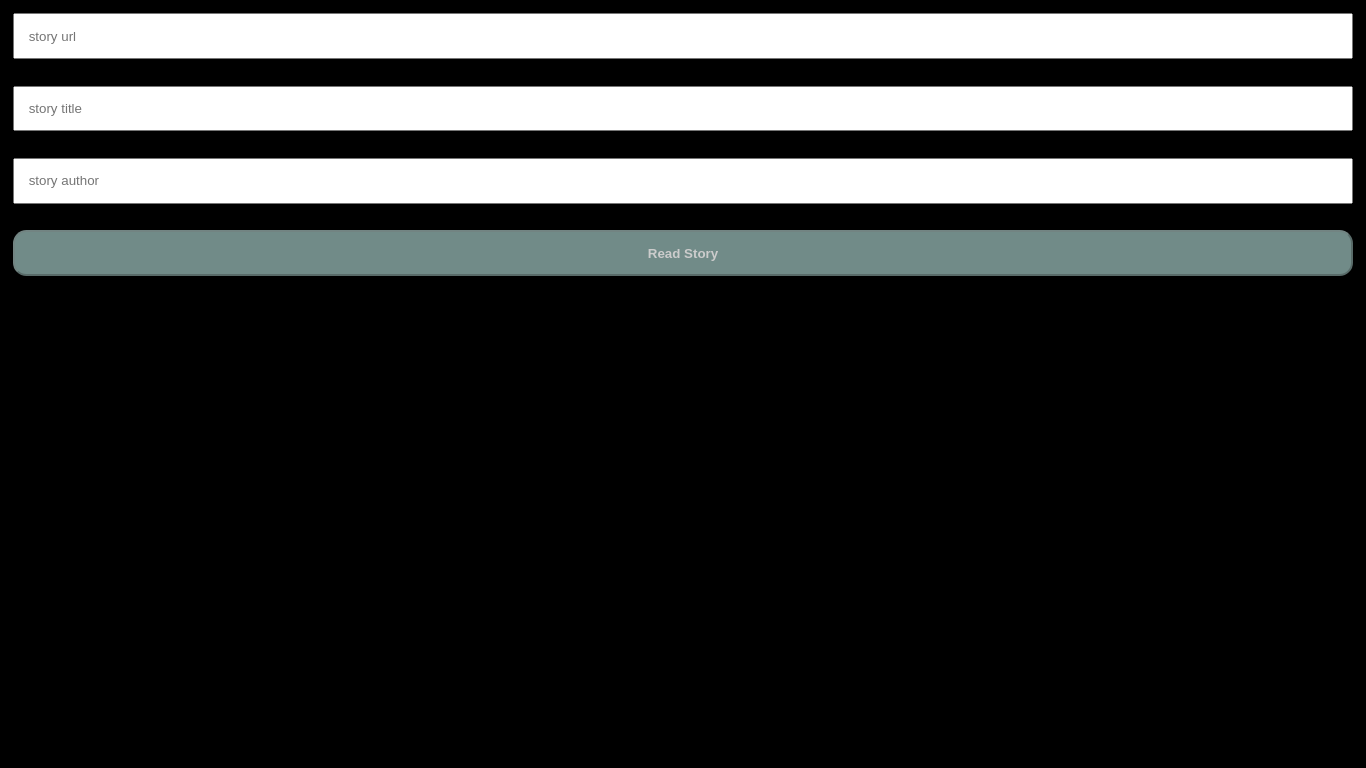
Test case: StoryLoader › loads a story › from the form
Type "A Greeting" into the field with placeholder "story title". click: (683, 108)
box: 13,86 -> 1353,131
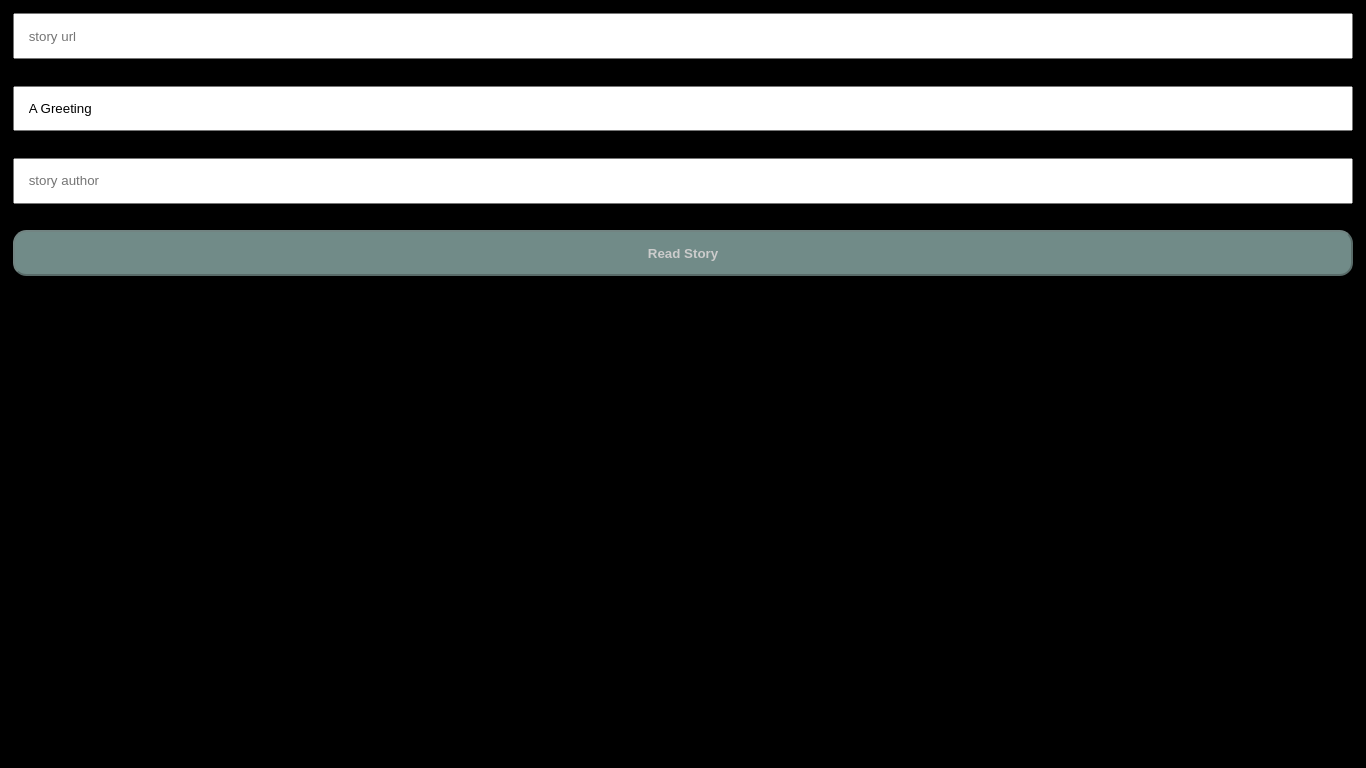
Type "C.S. Tradition" into the field with placeholder "story author". click: (683, 181)
box: 13,158 -> 1353,204
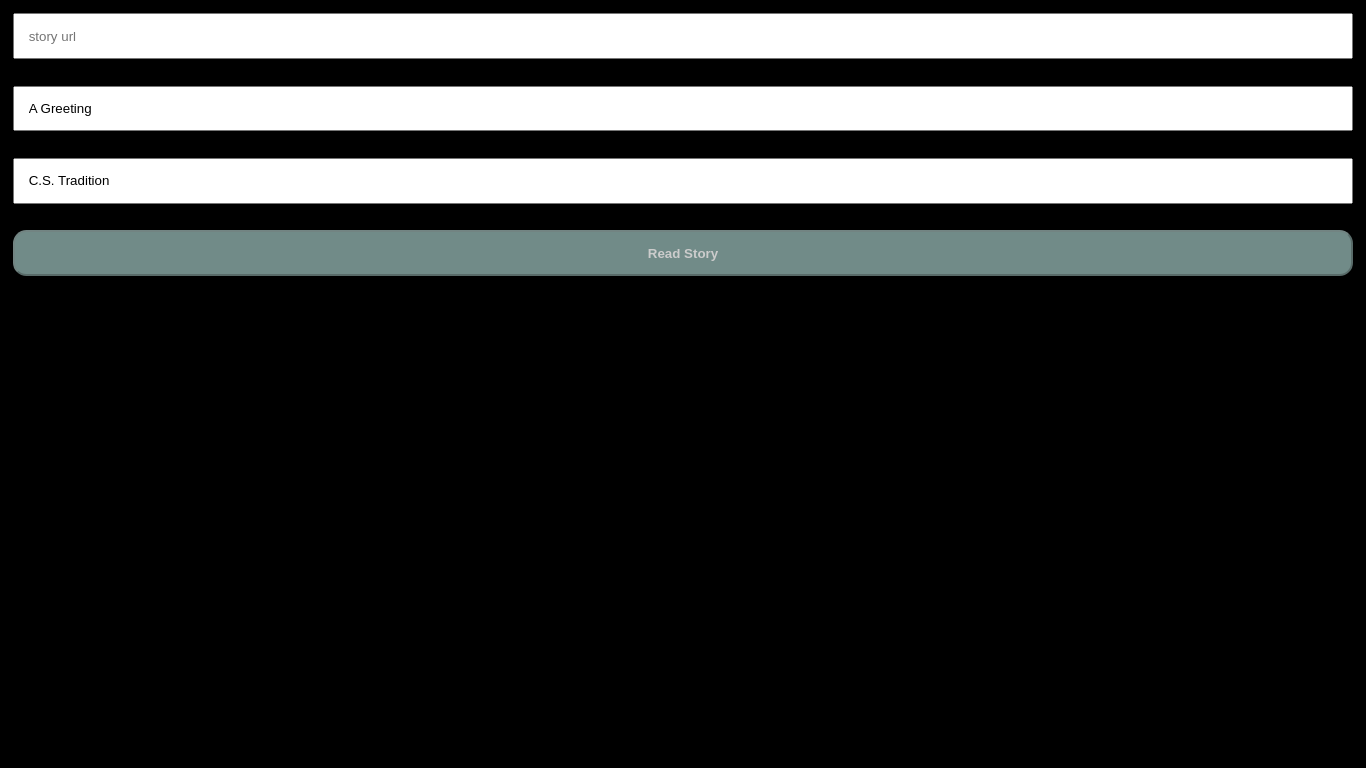
Type "http://www.example.com/story/42" into the field with placeholder "story url". click: (683, 36)
box: 13,13 -> 1353,59
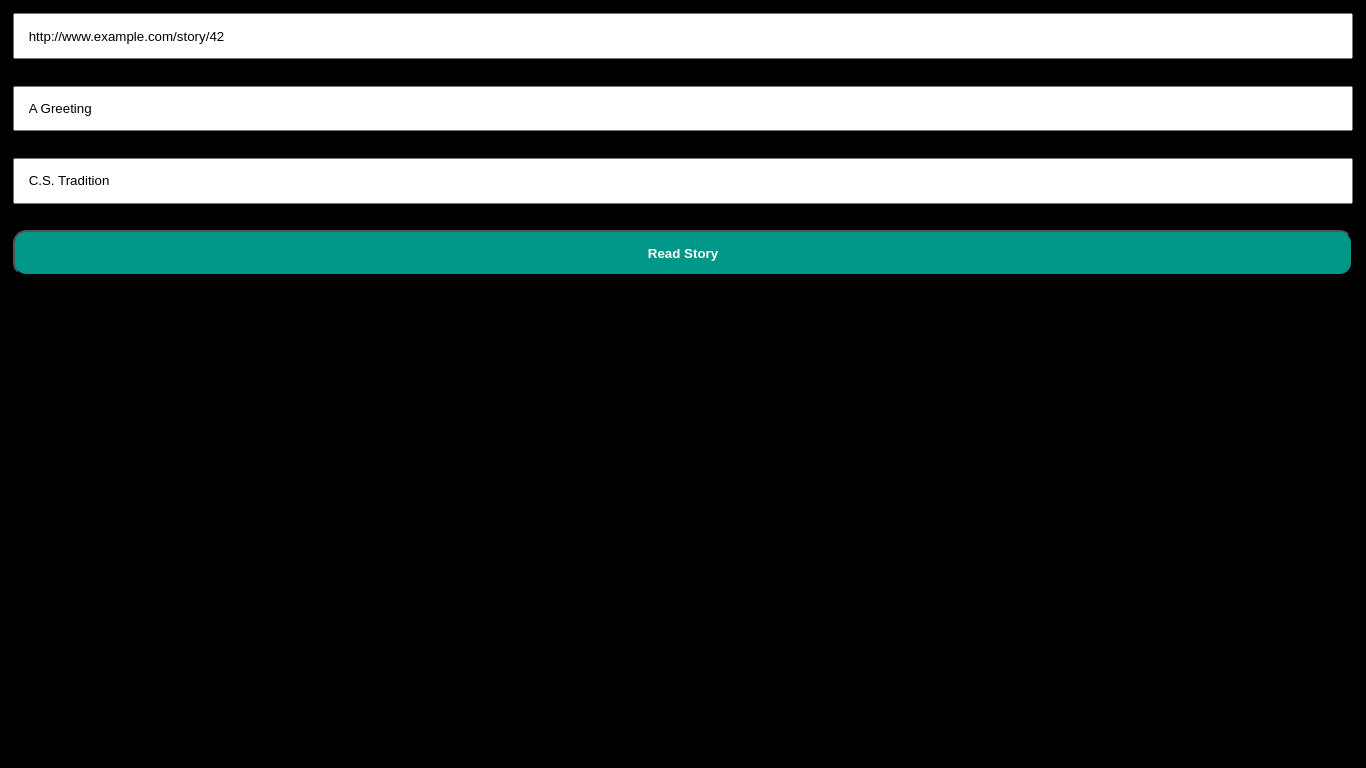
Click the button with class "StoryLoader-read-button". click: (683, 253)
box: 13,230 -> 1353,276
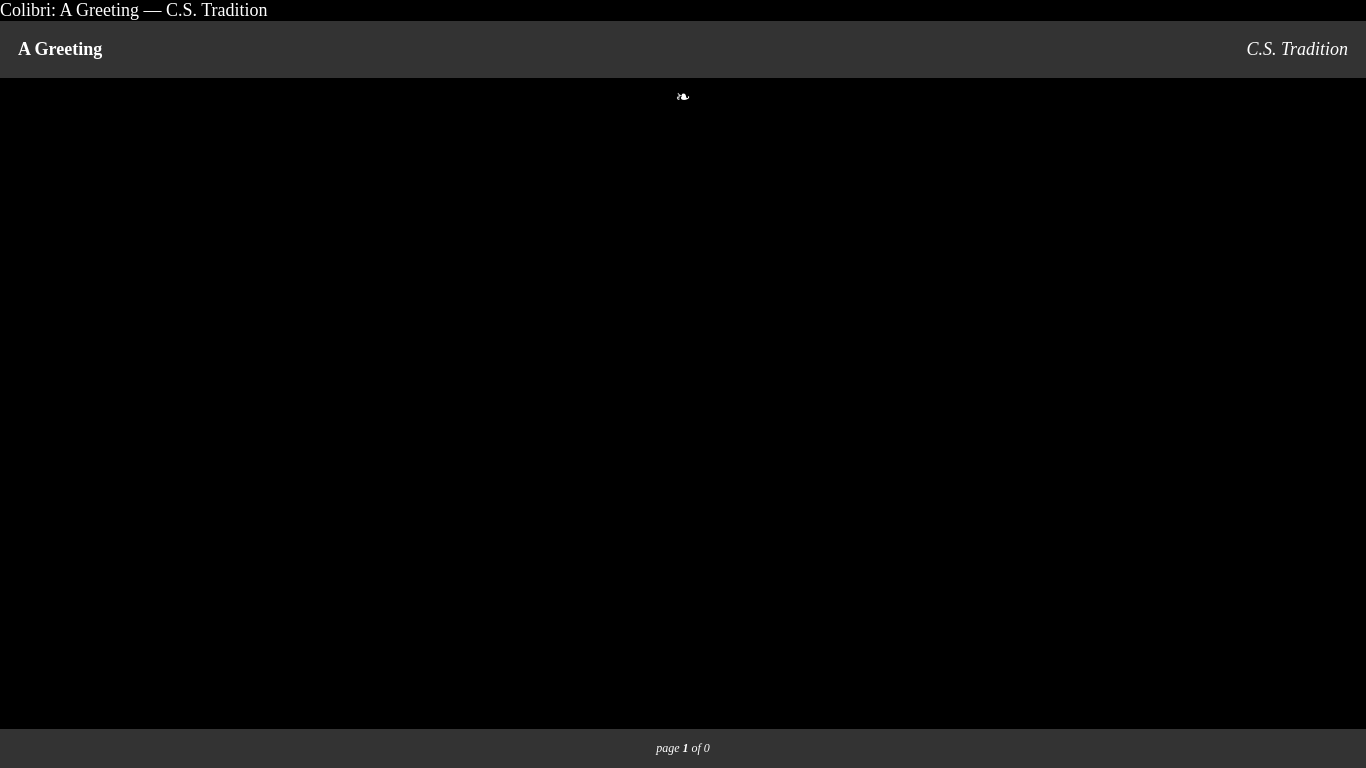
Check: the text "A Greeting" is shown, box 18,39 -> 102,59
Check: the text "C.S. Tradition" is shown, box 1246,39 -> 1348,60
